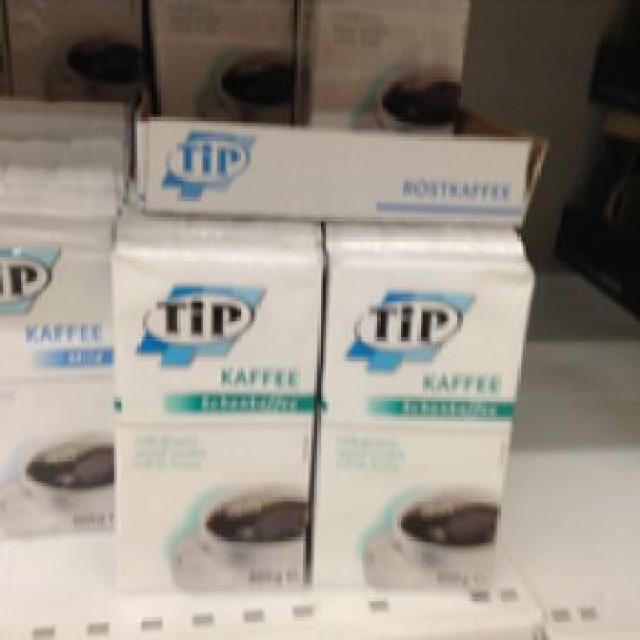Coffee: (308, 220, 532, 589), (106, 220, 320, 589), (300, 2, 469, 128), (148, 3, 294, 120)
